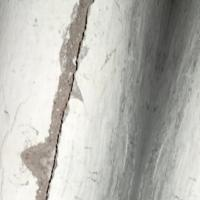crack: (30, 0, 104, 199)
